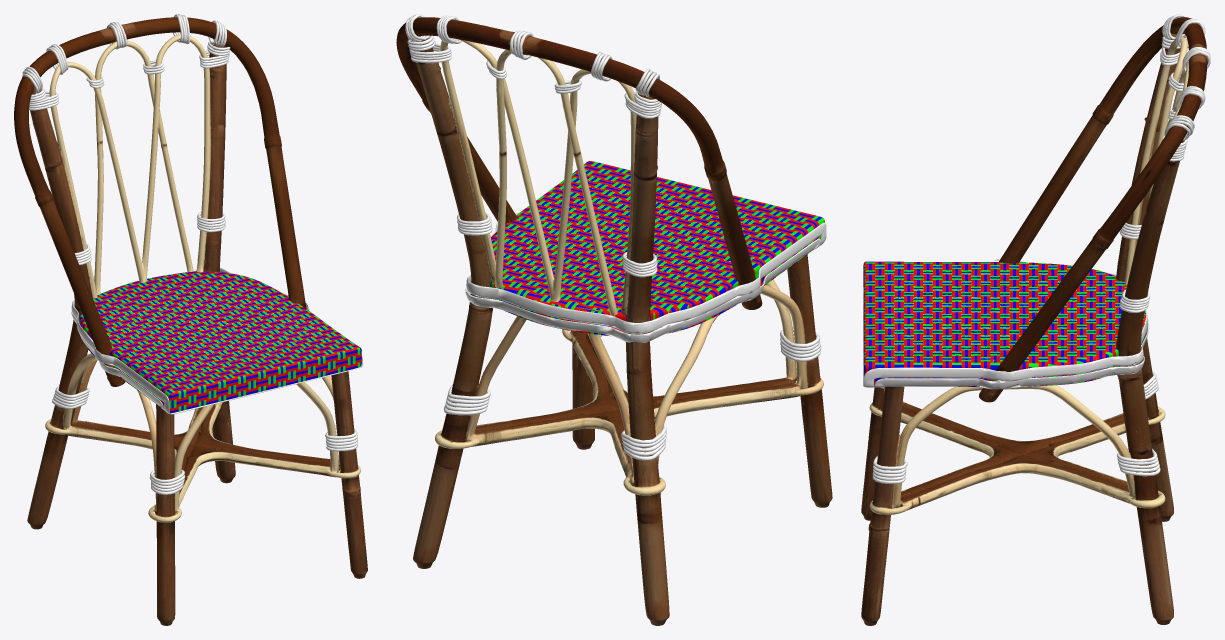
File: harpe-natte.glb
3 views of the same model, side by side, from view 1: azimuth 30°, elevation 25°; view 2: azimuth 150°, elevation 25°; view 3: azimuth 270°, elevation 25° (orthographic). The views are drawn at different scales.
Parts seen in each view (by area): view 1: mesh_structure, mesh_tressage, mesh_laniere; view 2: mesh_structure, mesh_tressage, mesh_laniere; view 3: mesh_structure, mesh_tressage, mesh_laniere.
Part boxes in pixels (box(x1,y1,x2,y2)): mesh_structure: box(14, 17, 367, 625); mesh_tressage: box(80, 271, 361, 413); mesh_laniere: box(22, 14, 362, 494); mesh_structure: box(396, 17, 832, 625); mesh_tressage: box(490, 161, 824, 336); mesh_laniere: box(405, 14, 826, 460); mesh_structure: box(861, 17, 1207, 625); mesh_tressage: box(863, 261, 1146, 386); mesh_laniere: box(863, 14, 1210, 483).
Bounding box in the file's own units: 0.5059 × 0.9056 × 0.5488.
3 materials, 2 textured.
